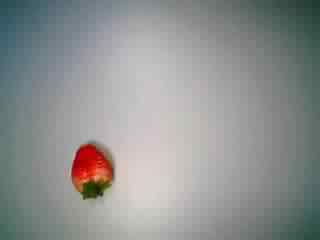strawberry: (49, 139, 115, 205)
